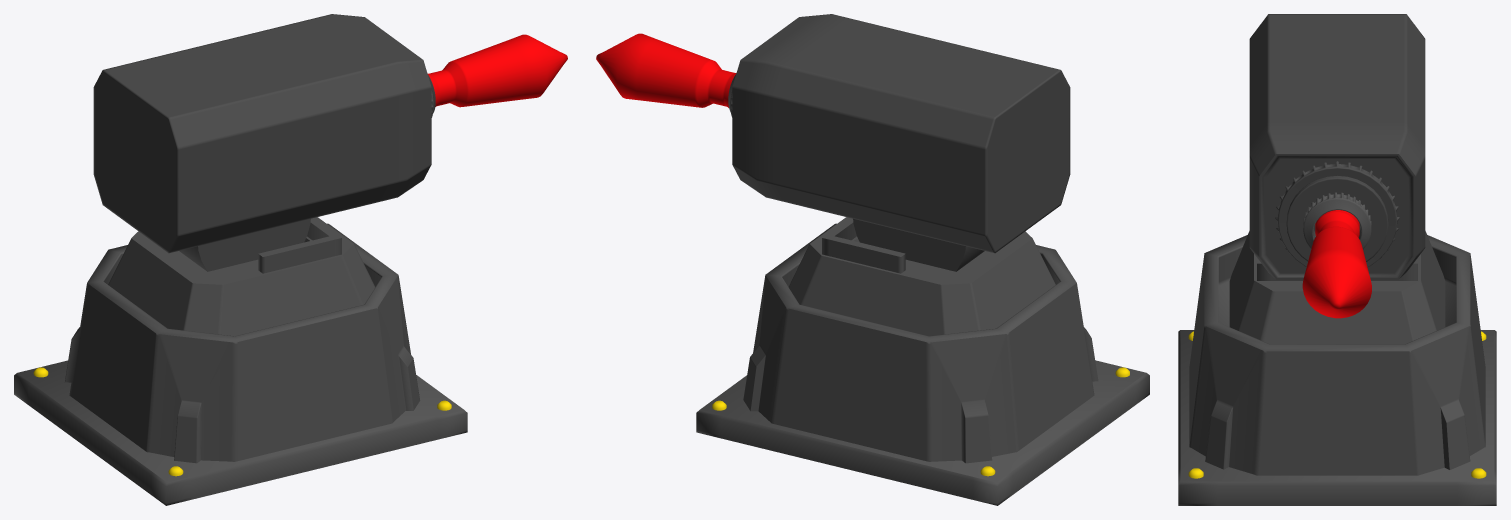
The model's file is MissileLauncher.fbx.
3 renders of one model, left to right at view 1: azimuth 30°, elevation 25°; view 2: azimuth 150°, elevation 25°; view 3: azimuth 270°, elevation 25°, orthographic. The views are drawn at different scales.
Parts seen in each view (by area): view 1: Stand, Turret, Missile; view 2: Stand, Turret, Missile; view 3: Stand, Turret, Missile.
Boxes of the visible parts, bbox=[...] form: Stand: bbox=[14, 217, 467, 505]; Turret: bbox=[93, 14, 435, 271]; Missile: bbox=[428, 34, 567, 107]; Stand: bbox=[696, 217, 1149, 505]; Turret: bbox=[728, 14, 1070, 271]; Missile: bbox=[596, 33, 736, 107]; Stand: bbox=[1178, 231, 1496, 505]; Turret: bbox=[1249, 14, 1425, 279]; Missile: bbox=[1302, 210, 1371, 318].
Size of the model in its own units: 647 by 448 by 357.
